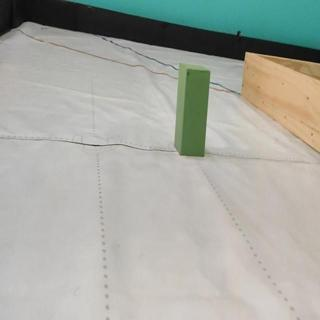greenbox: (177, 61, 210, 156)
